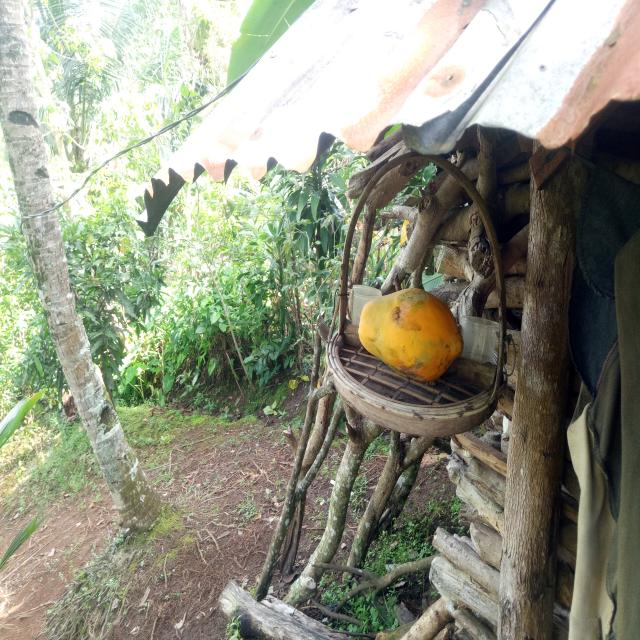Pepaya rippen: (353, 289, 464, 382)
